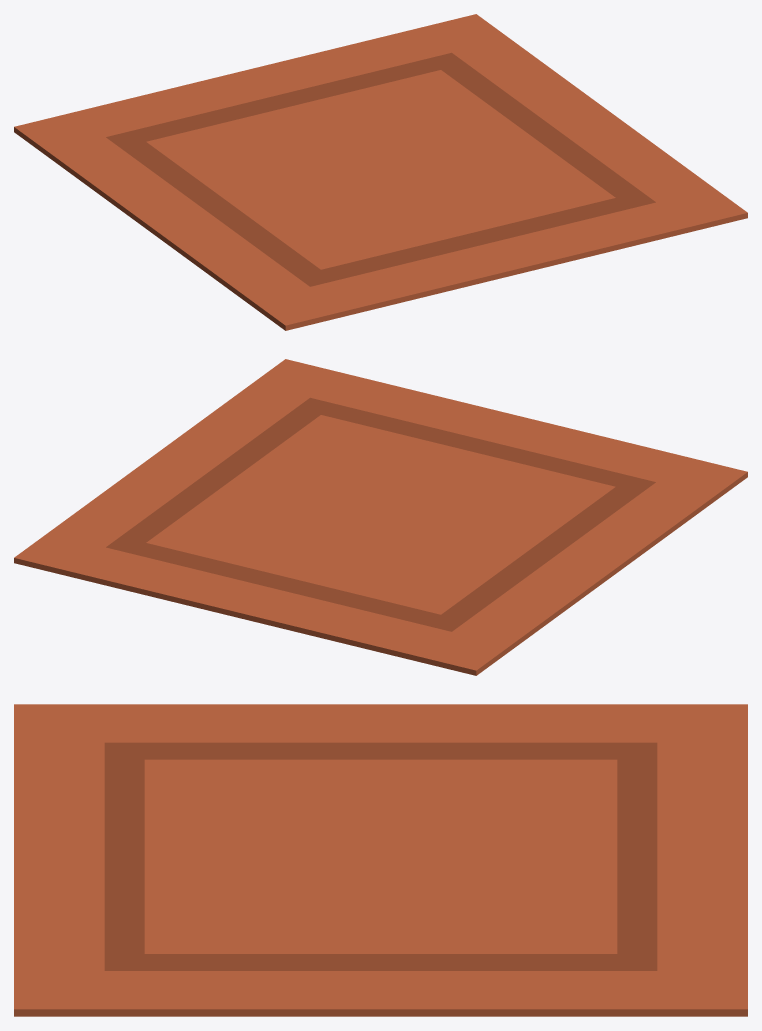
File: rugSquare.glb
3 views of the same model, one above another, from view 1: azimuth 30°, elevation 25°; view 2: azimuth 150°, elevation 25°; view 3: azimuth 270°, elevation 25° (orthographic). The views are drawn at different scales.
Parts seen in each view (by area): view 1: rugSquare; view 2: rugSquare; view 3: rugSquare.
Boxes of the visible parts, x1=… form: rugSquare: x1=14, y1=14, x2=747, y2=330; rugSquare: x1=14, y1=359, x2=747, y2=675; rugSquare: x1=14, y1=704, x2=747, y2=1016.
Bounding box in the file's own units: 1.81 × 0.02 × 1.84.
